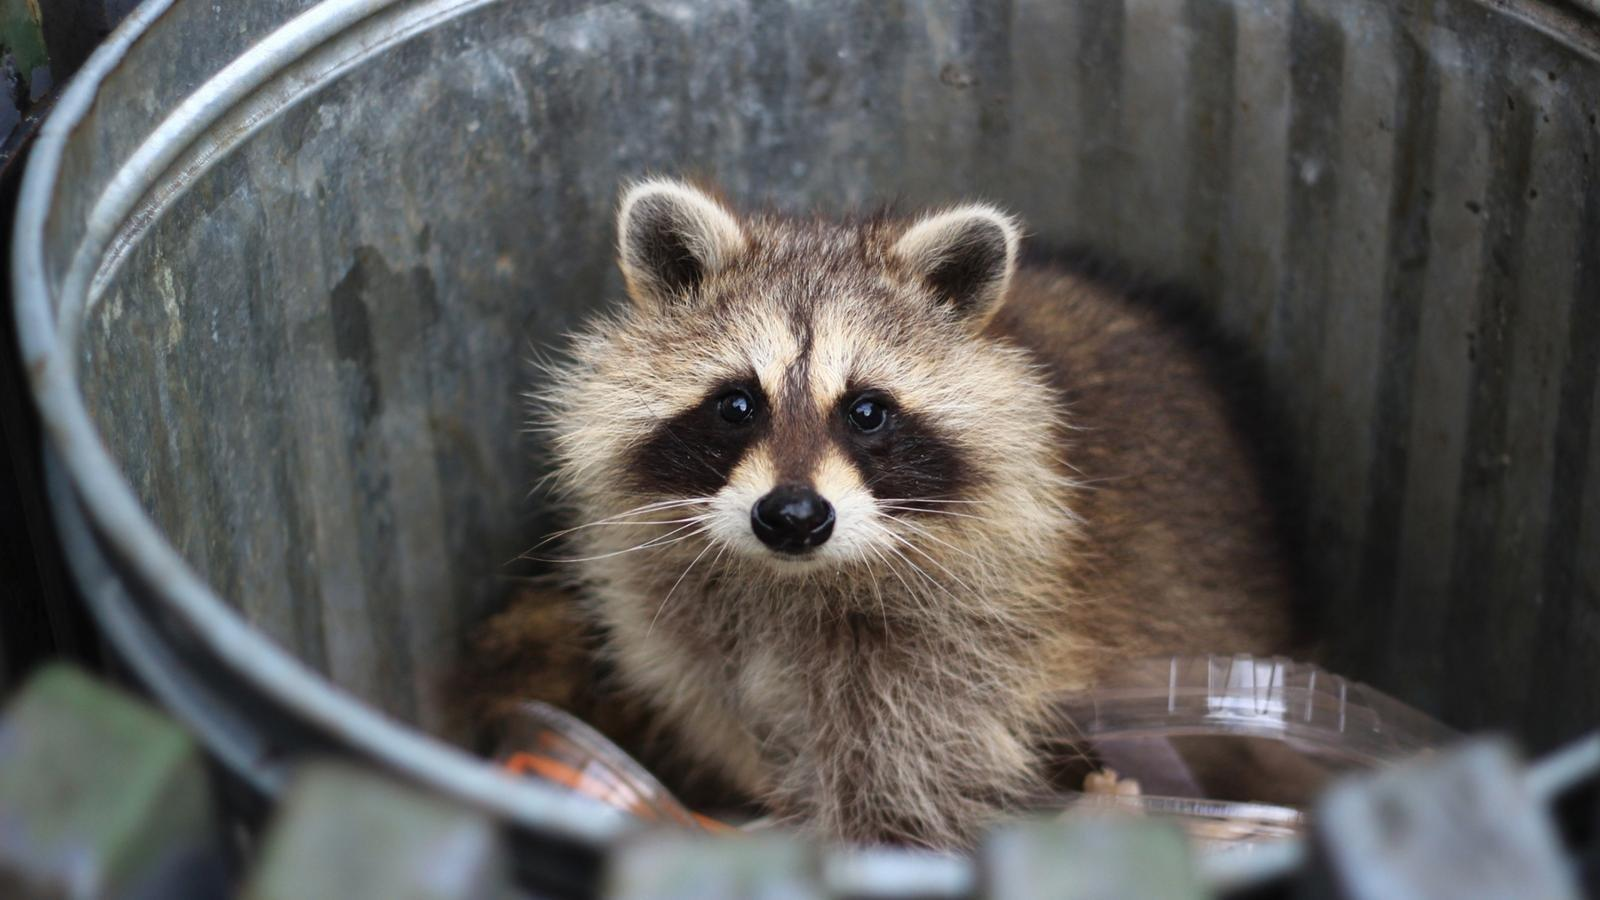raccoon: (562, 180, 1291, 851)
